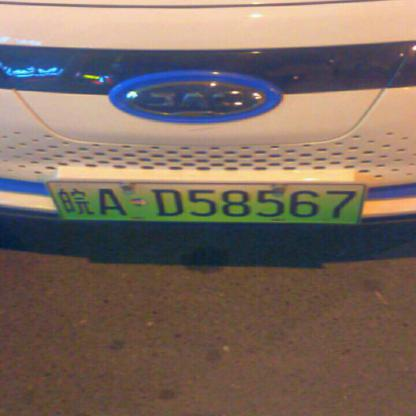lp: (46, 182, 60, 224)
